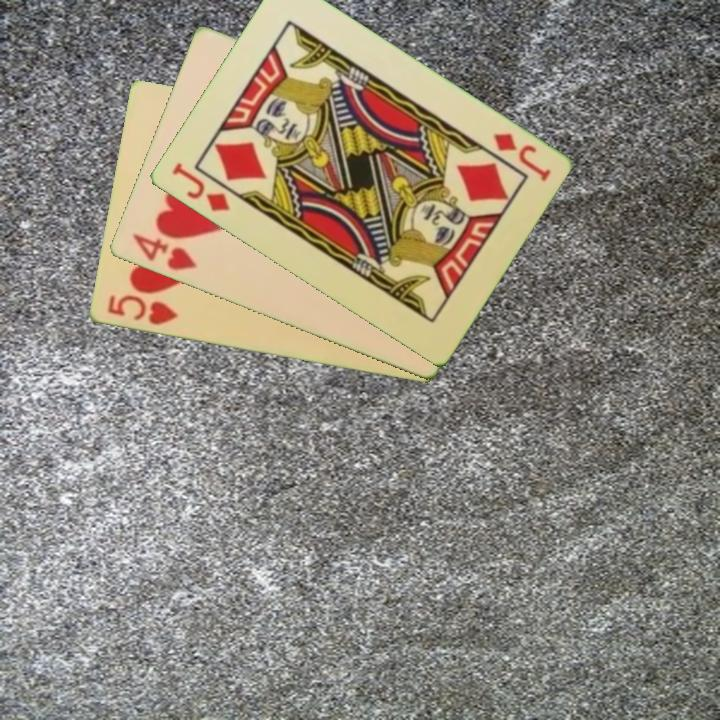4h: (128, 230, 200, 274)
5h: (103, 291, 181, 329)
Jd: (168, 159, 233, 215), (489, 129, 553, 185)
